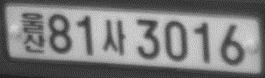0: (163, 20, 188, 60)
1: (192, 20, 211, 65), (75, 14, 94, 57)
3: (135, 18, 160, 60)
6: (219, 22, 245, 65)
8: (48, 13, 72, 53)
사: (100, 18, 126, 55)
울산_V: (21, 11, 46, 53)
